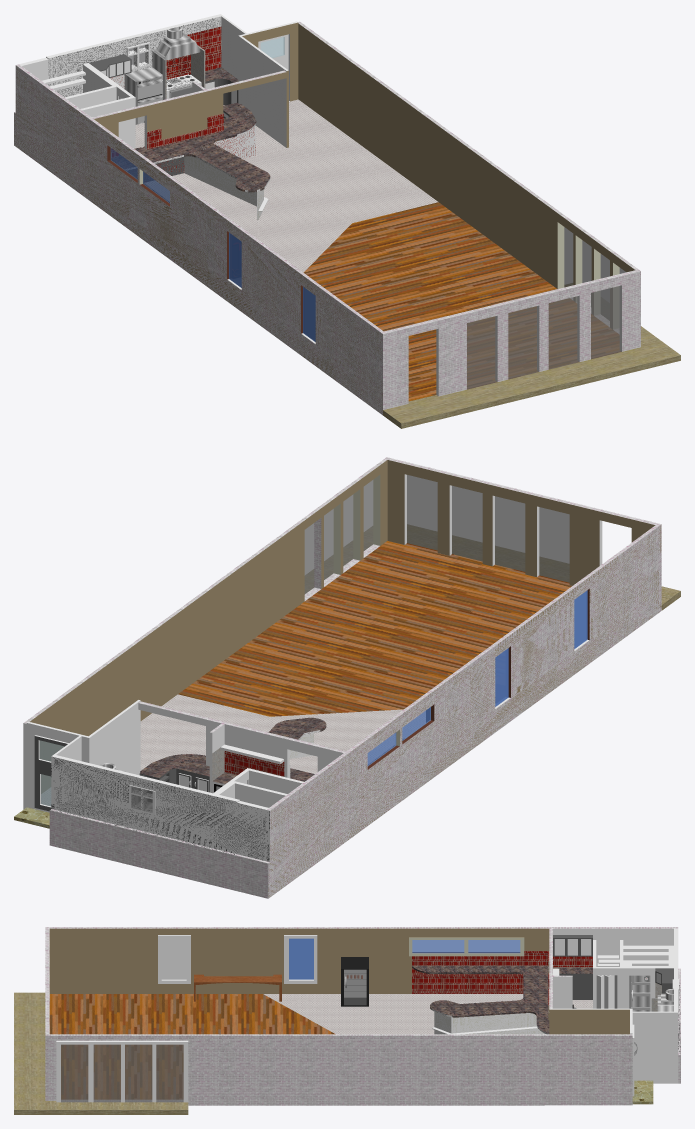
File: cafe.dae
3 renders of one model, top to bottom at view 1: azimuth 30°, elevation 25°; view 2: azimuth 150°, elevation 25°; view 3: azimuth 270°, elevation 25°, orthographic. The views are drawn at different scales.
Visible parts, largest first — view 1: SketchUp (×18); view 2: SketchUp (×22); view 3: SketchUp (×31), Component_31 (×2).
Part boxes in pixels (x1,y1,x2,y2): SketchUp (×18): [14, 14, 680, 428]; SketchUp (×22): [23, 457, 680, 898]; SketchUp (×31): [14, 927, 678, 1114]; Component_31 (×2): [341, 957, 368, 1006].
Size of the model in its own units: 401 by 961 by 113.
36 materials, 15 textured.
